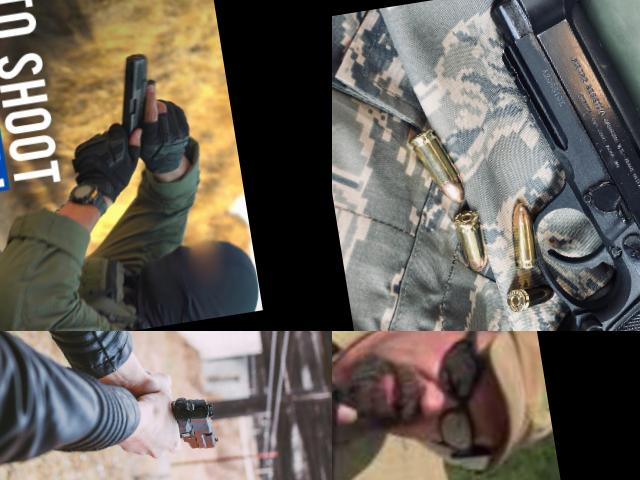handgun: (407, 0, 640, 331), (332, 339, 431, 480), (104, 43, 171, 156), (148, 388, 222, 461)
